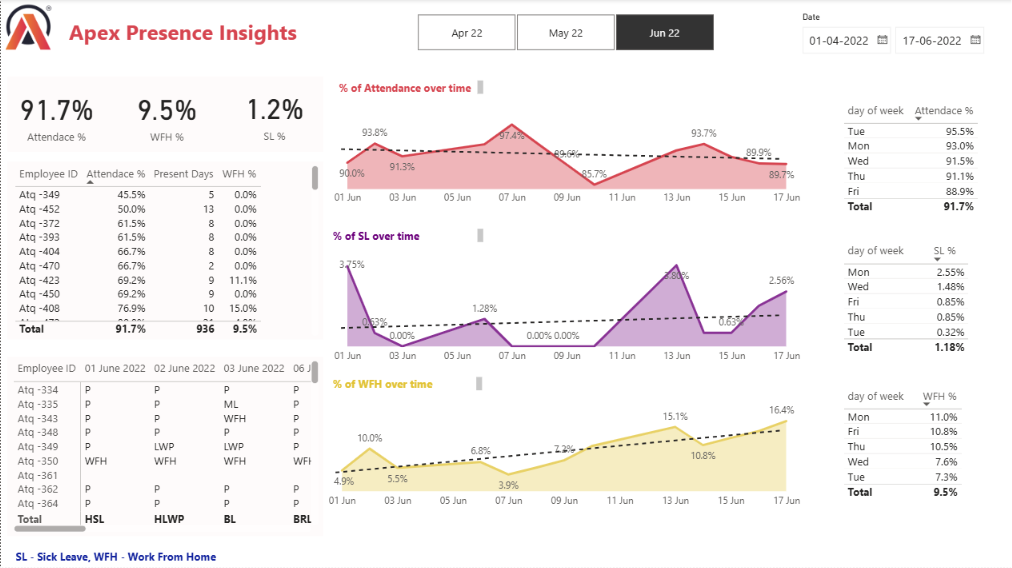

The page's visual inventory and layout, read from the dashboard file:
{"tool":"powerbi","page":{"name":"Presence Insights","canvas":[1280,720],"ordinal":0},"visuals":[{"type":"textbox","box":[7.8,205.6,399.9,225.5],"z":0},{"type":"textbox","box":[7.8,453.3,399.8,227.6],"z":1000},{"type":"textbox","box":[7.8,98,399.9,95.4],"z":3000},{"type":"tableEx","fields":{"Values":["Final Data.Employee ID","Measures (2).Attendace %","Measures (2).Present Days","Measures (2).WFH %"]},"box":[12.6,205.2,394.9,225.7],"z":4000},{"type":"slicer","fields":{"Values":["Final Data.Date"]},"box":[1002.1,11,269.2,64.9],"z":5000},{"type":"slicer","fields":{"Values":["Final Data.MMM YY"]},"box":[502.4,12.4,423.7,59.4],"z":6000},{"type":"areaChart","fields":{"Category":["Final Data.MMM YY","Final Data.Date"],"Y":["Measures (2).WFH %"]},"box":[408.6,501,608.7,153.2],"z":7000},{"type":"areaChart","fields":{"Category":["Final Data.WeekNo","Final Data.Date"],"Y":["Measures (2).Attendace %"]},"box":[415.5,128.4,601.8,142.2],"z":8000},{"type":"card","fields":{"Values":["Measures (2).Attendace %"]},"box":[7.8,98,124,96.3],"z":9000},{"type":"card","fields":{"Values":["Measures (2).WFH %"]},"box":[141.4,98,138.8,96.3],"z":10000},{"type":"areaChart","fields":{"Category":["Final Data.MMM YY","Final Data.Date"],"Y":["Measures (2).SL %"]},"box":[415.5,317.5,601.8,153.2],"z":11000},{"type":"image","box":[0,0,70,71],"z":12000},{"type":"card","fields":{"Values":["Measures (2).SL %"]},"box":[286.3,97.2,121.4,96.3],"z":13000},{"type":"textbox","box":[70.3,0,320.1,71.1],"z":14000},{"type":"textbox","box":[415.5,98,200.1,27.6],"z":15000},{"type":"textbox","box":[415.5,285.7,200.1,27.6],"z":16000},{"type":"textbox","box":[415.5,473.4,198.8,27.6],"z":17000},{"type":"pivotTable","fields":{"Rows":["Final Data.Employee ID"],"Columns":["Final Data.Date"],"Values":["Min(Final Data.Value)"]},"box":[11.7,453.3,395.9,227.6],"z":18000},{"type":"textbox","box":[13.6,691.6,289.8,28.2],"z":19000},{"type":"tableEx","fields":{"Values":["Final Data.day of week","Measures (2).Attendace %"]},"box":[1061.4,125.6,209.8,160.1],"z":20000},{"type":"tableEx","fields":{"Values":["Final Data.day of week","Measures (2).SL %"]},"box":[1061.4,303.7,191.9,167],"z":21000},{"type":"tableEx","fields":{"Values":["Final Data.day of week","Measures (2).WFH %"]},"box":[1061.4,487.2,169.8,167],"z":22000}]}

Visuals, with their boxes in screenshot pixels (x1, y1, x2, y2), scaled from the page's 1280x720 canvas onto the 1012x568 screenshot:
textbox: (6, 162, 322, 340)
textbox: (6, 358, 322, 537)
textbox: (6, 77, 322, 153)
tableEx - Final Data.Employee ID x Measures (2).Attendace %: (10, 162, 322, 340)
slicer - Final Data.Date: (792, 9, 1005, 60)
slicer - Final Data.MMM YY: (397, 10, 732, 57)
areaChart - Final Data.MMM YY x Final Data.Date: (323, 395, 804, 516)
areaChart - Final Data.WeekNo x Final Data.Date: (329, 101, 804, 213)
card - Measures (2).Attendace %: (6, 77, 104, 153)
card - Measures (2).WFH %: (112, 77, 222, 153)
areaChart - Final Data.MMM YY x Final Data.Date: (329, 250, 804, 371)
image: (0, 0, 55, 56)
card - Measures (2).SL %: (226, 77, 322, 153)
textbox: (56, 0, 309, 56)
textbox: (329, 77, 487, 99)
textbox: (329, 225, 487, 247)
textbox: (329, 373, 486, 395)
pivotTable - Final Data.Employee ID x Final Data.Date: (9, 358, 322, 537)
textbox: (11, 546, 240, 567)
tableEx - Final Data.day of week x Measures (2).Attendace %: (839, 99, 1005, 225)
tableEx - Final Data.day of week x Measures (2).SL %: (839, 240, 991, 371)
tableEx - Final Data.day of week x Measures (2).WFH %: (839, 384, 973, 516)
